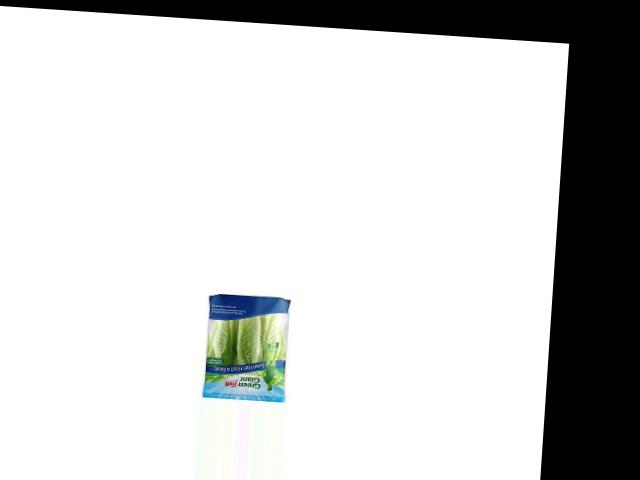lettuce: (201, 288, 294, 398)
